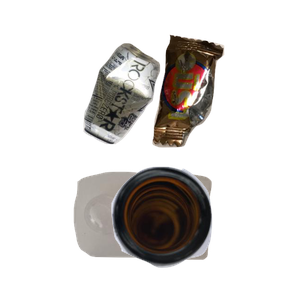glass: (109, 164, 300, 300)
metal: (81, 41, 234, 178)
plastic: (71, 169, 275, 300)
trash: (150, 32, 300, 172)
